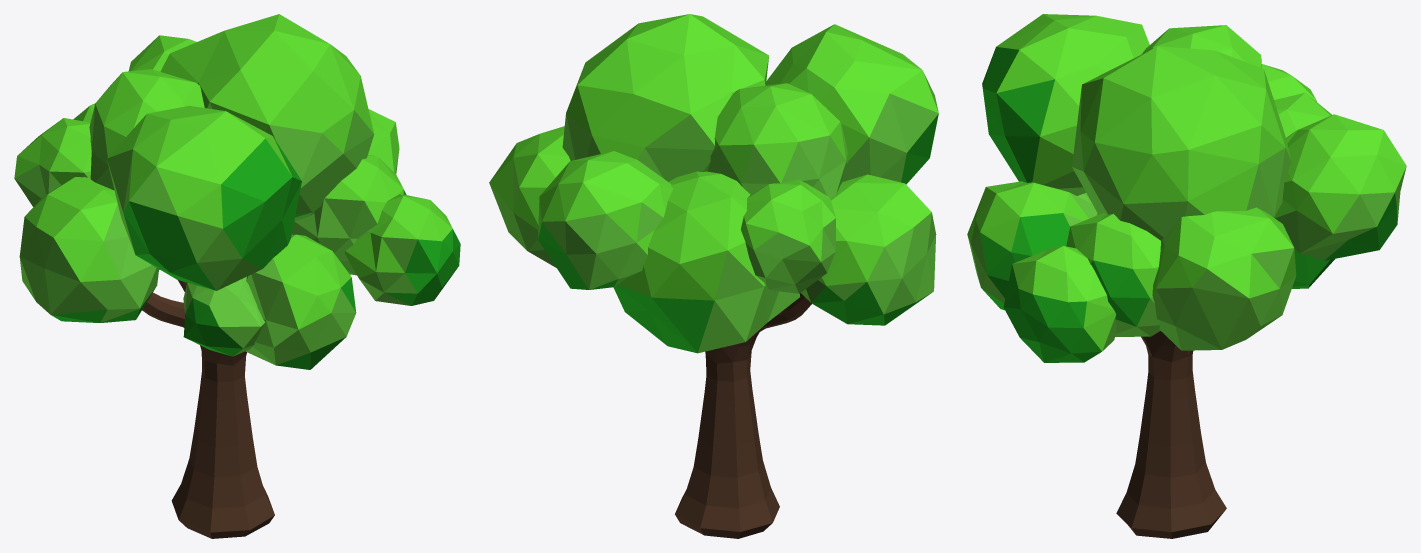
File: tree6 02.fbx
The picture shows the model from 3 angles, left to right: view 1: azimuth 30°, elevation 25°; view 2: azimuth 150°, elevation 25°; view 3: azimuth 270°, elevation 25°; orthographic projection. The views are drawn at different scales.
Parts seen in each view (by area): view 1: Arbol3Hojas; view 2: Arbol3Hojas; view 3: Arbol3Hojas.
Boxes of the visible parts, x1,y1,x2,y2 form: Arbol3Hojas: [14, 14, 460, 538]; Arbol3Hojas: [489, 14, 938, 538]; Arbol3Hojas: [967, 14, 1406, 538].
Bounding box in the file's own units: 923 × 1115 × 886.
